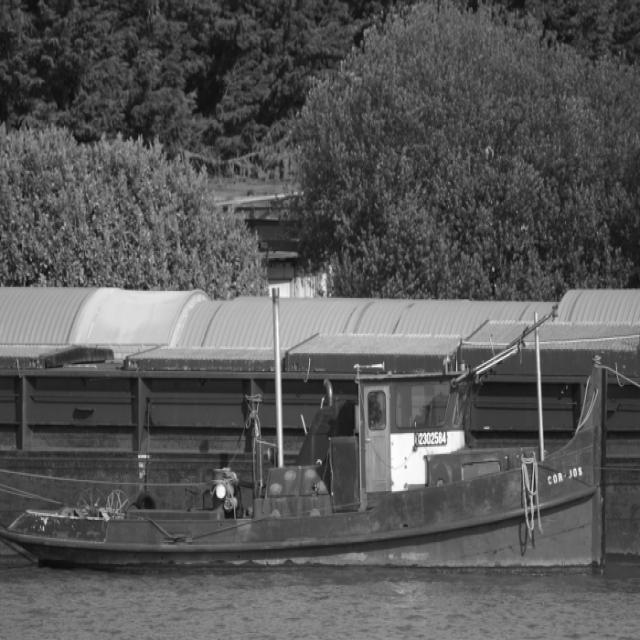tugboat: (1, 354, 621, 607)
